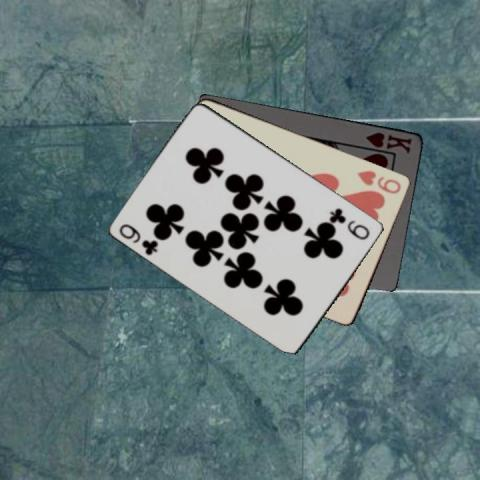9c: (327, 205, 372, 241), (116, 221, 161, 256)
9h: (354, 168, 403, 196)
Kh: (363, 128, 413, 154)
